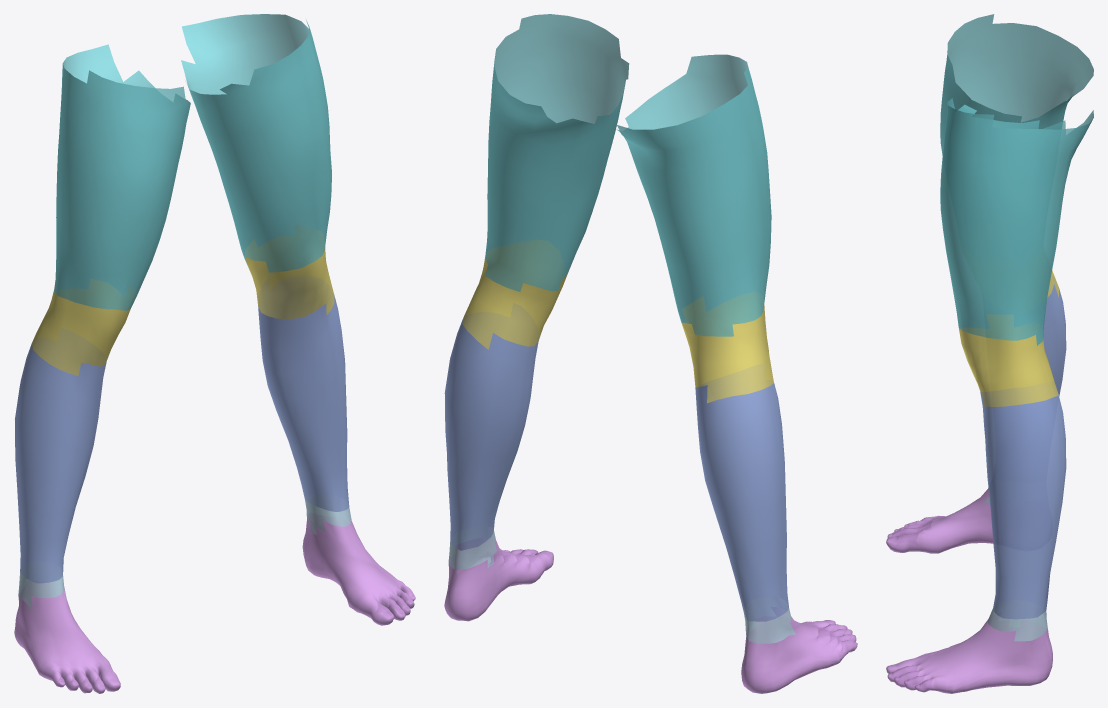
File: malianteo_body_v1_legs_l1.glb
3 views of the same model, side by side, from view 1: azimuth 30°, elevation 25°; view 2: azimuth 150°, elevation 25°; view 3: azimuth 270°, elevation 25° (orthographic). The views are drawn at different scales.
Parts seen in each view (by area): view 1: zone_left_thigh, zone_right_thigh, zone_right_lower_leg, zone_left_lower_leg, zone_right_foot, zone_left_foot, zone_right_knee, zone_left_knee, zone_right_ankle, zone_left_ankle; view 2: zone_left_thigh, zone_right_thigh, zone_right_lower_leg, zone_left_lower_leg, zone_left_knee, zone_right_knee, zone_right_foot, zone_left_foot, zone_right_ankle, zone_left_ankle; view 3: zone_left_thigh, zone_left_lower_leg, zone_right_thigh, zone_left_foot, zone_left_knee, zone_right_foot, zone_left_ankle, zone_right_lower_leg.
Part boxes in pixels (<box>): zone_left_thigh: <box>181,14,331,272</box>; zone_right_thigh: <box>54,44,190,310</box>; zone_right_lower_leg: <box>15,328,106,583</box>; zone_left_lower_leg: <box>258,276,349,511</box>; zone_right_foot: <box>14,581,120,693</box>; zone_left_foot: <box>302,513,415,625</box>; zone_right_knee: <box>32,279,136,375</box>; zone_left_knee: <box>245,226,334,319</box>; zone_right_ankle: <box>18,562,67,610</box>; zone_left_ankle: <box>305,495,351,535</box>; zone_left_thigh: <box>485,14,629,291</box>; zone_right_thigh: <box>616,54,771,336</box>; zone_right_lower_leg: <box>695,364,788,621</box>; zone_left_lower_leg: <box>444,303,538,550</box>; zone_left_knee: <box>462,240,568,349</box>; zone_right_knee: <box>681,292,773,403</box>; zone_right_foot: <box>741,607,857,693</box>; zone_left_foot: <box>444,538,553,621</box>; zone_right_ankle: <box>743,596,795,643</box>; zone_left_ankle: <box>448,526,496,570</box>; zone_left_thigh: <box>940,98,1093,345</box>; zone_left_lower_leg: <box>980,381,1066,619</box>; zone_right_thigh: <box>940,14,1093,155</box>; zone_left_foot: <box>886,613,1052,693</box>; zone_left_knee: <box>959,314,1058,406</box>; zone_right_foot: <box>886,489,993,553</box>; zone_left_ankle: <box>988,600,1047,641</box>; zone_right_lower_leg: <box>1043,276,1066,396</box>.
Bounding box in the file's own units: 0.5873 × 0.9002 × 0.3081.
